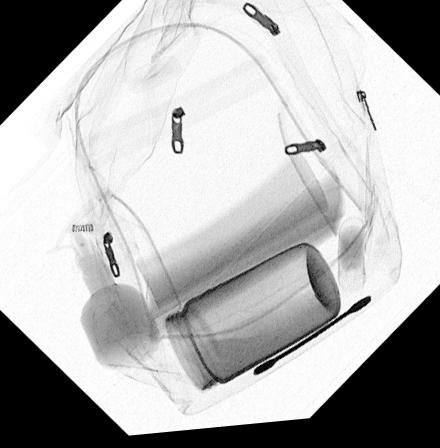Wrench: (250, 300, 372, 381)
